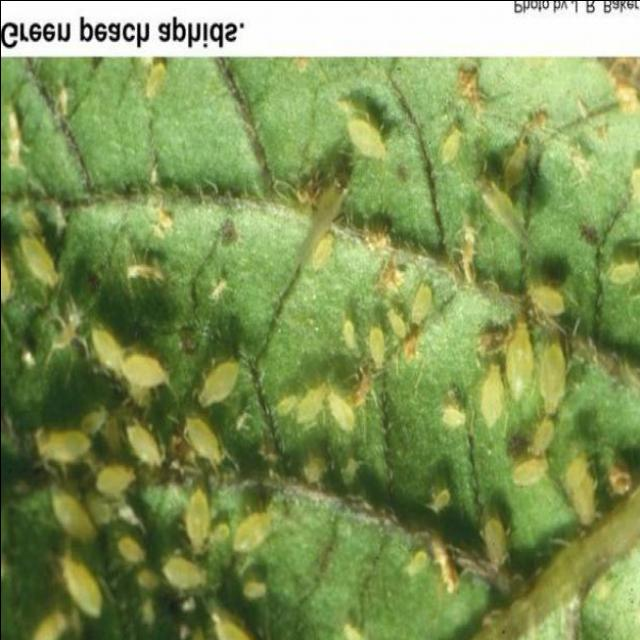Aphids: (0, 207, 304, 640), (428, 328, 567, 494), (339, 266, 443, 376), (268, 370, 362, 438), (340, 85, 402, 178), (568, 457, 606, 539), (595, 228, 640, 296), (480, 502, 516, 582), (301, 220, 349, 278), (130, 55, 178, 109), (525, 272, 578, 320), (402, 533, 435, 601)
